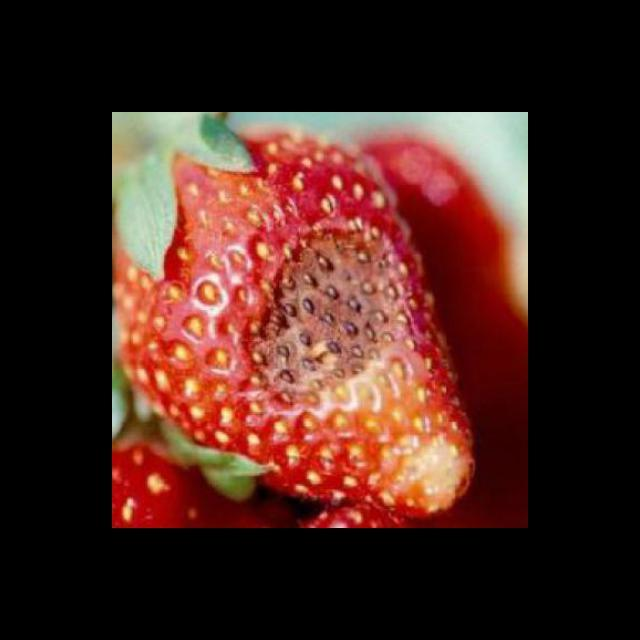Anthracnose Fruit Rot: (233, 220, 419, 411)
